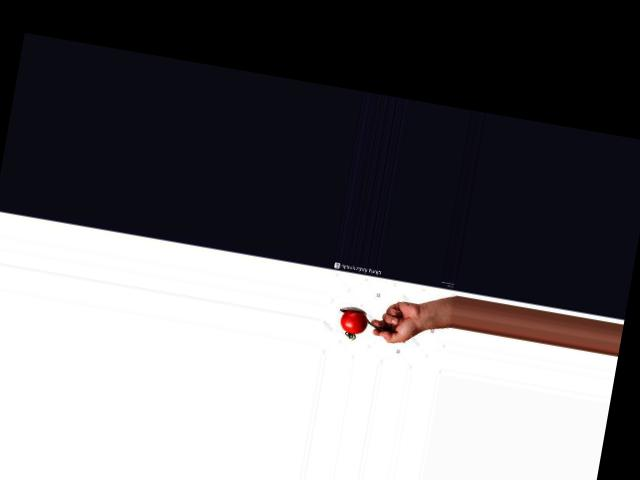tomato: (339, 309, 369, 336)
